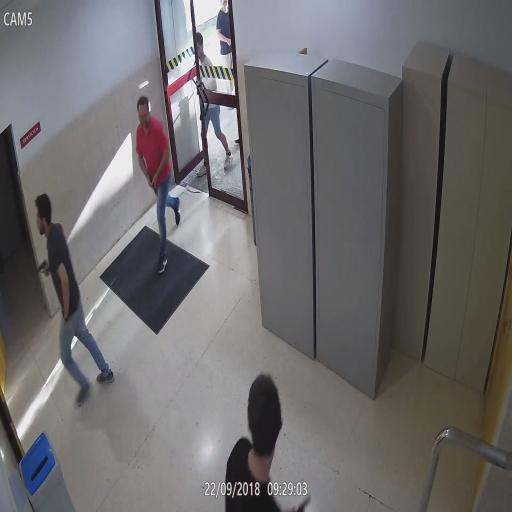Handgun: (36, 257, 50, 279), (146, 172, 158, 195)
